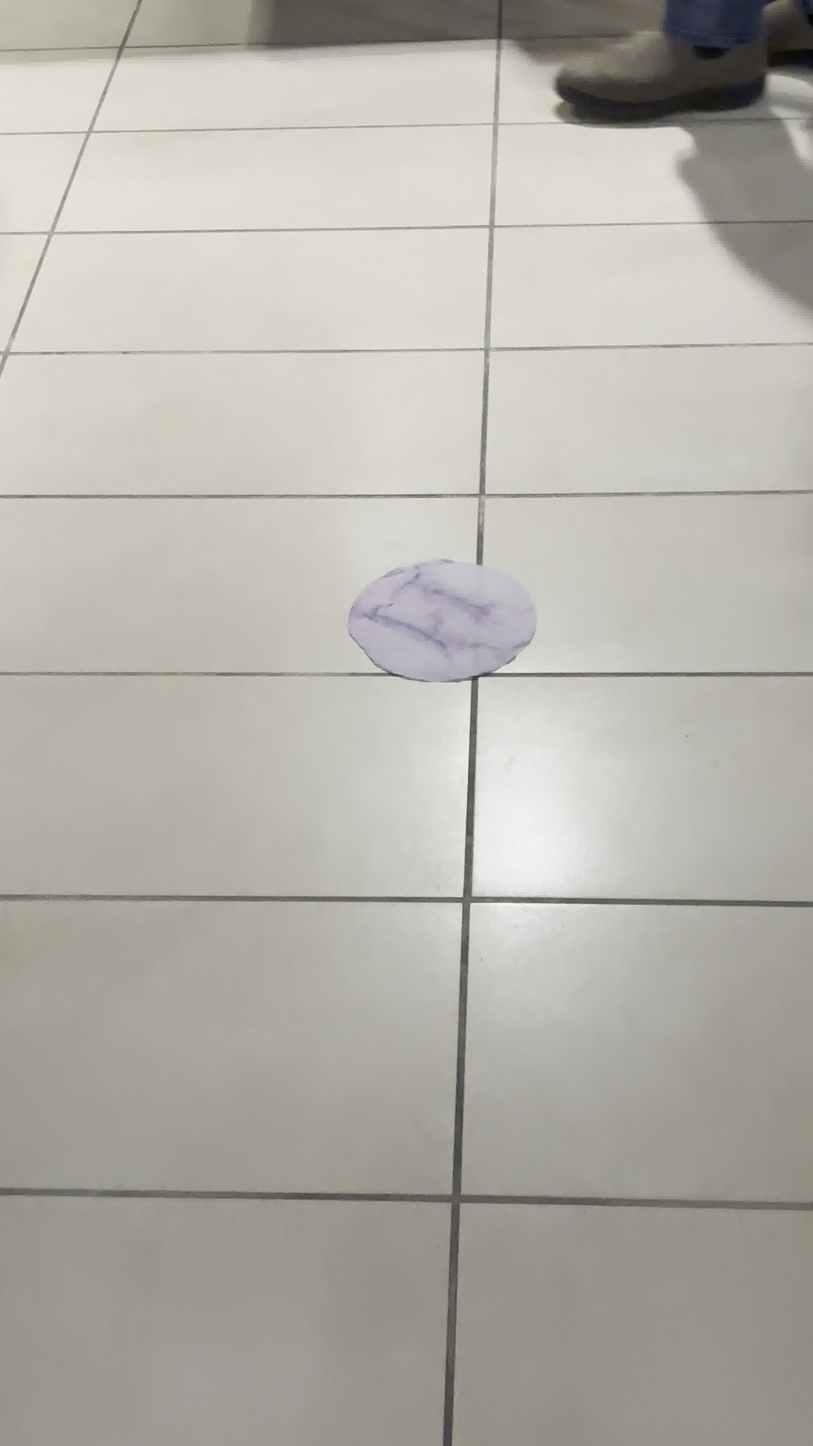Target: (344, 559, 537, 680)
